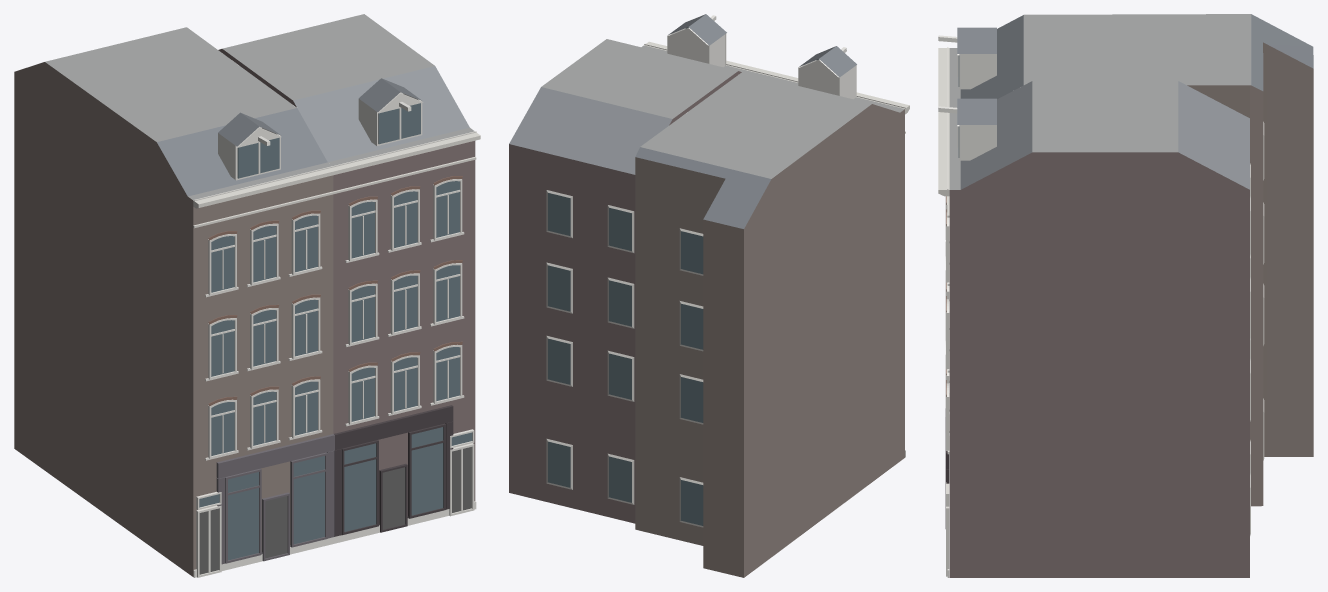
The model's file is chunk-face-wou-54-72-r2.glb.
3 views of the same model, side by side, from view 1: azimuth 30°, elevation 25°; view 2: azimuth 150°, elevation 25°; view 3: azimuth 270°, elevation 25° (orthographic). The views are drawn at different scales.
Parts seen in each view (by area): view 1: face-wou-54-72-r2; view 2: face-wou-54-72-r2; view 3: face-wou-54-72-r2.
Part boxes in pixels (x1,y1,x2,y2): face-wou-54-72-r2: (14, 14, 480, 577); face-wou-54-72-r2: (509, 14, 909, 577); face-wou-54-72-r2: (938, 14, 1313, 577).
Size of the model in its own units: 12.14 by 17.55 by 13.46.
